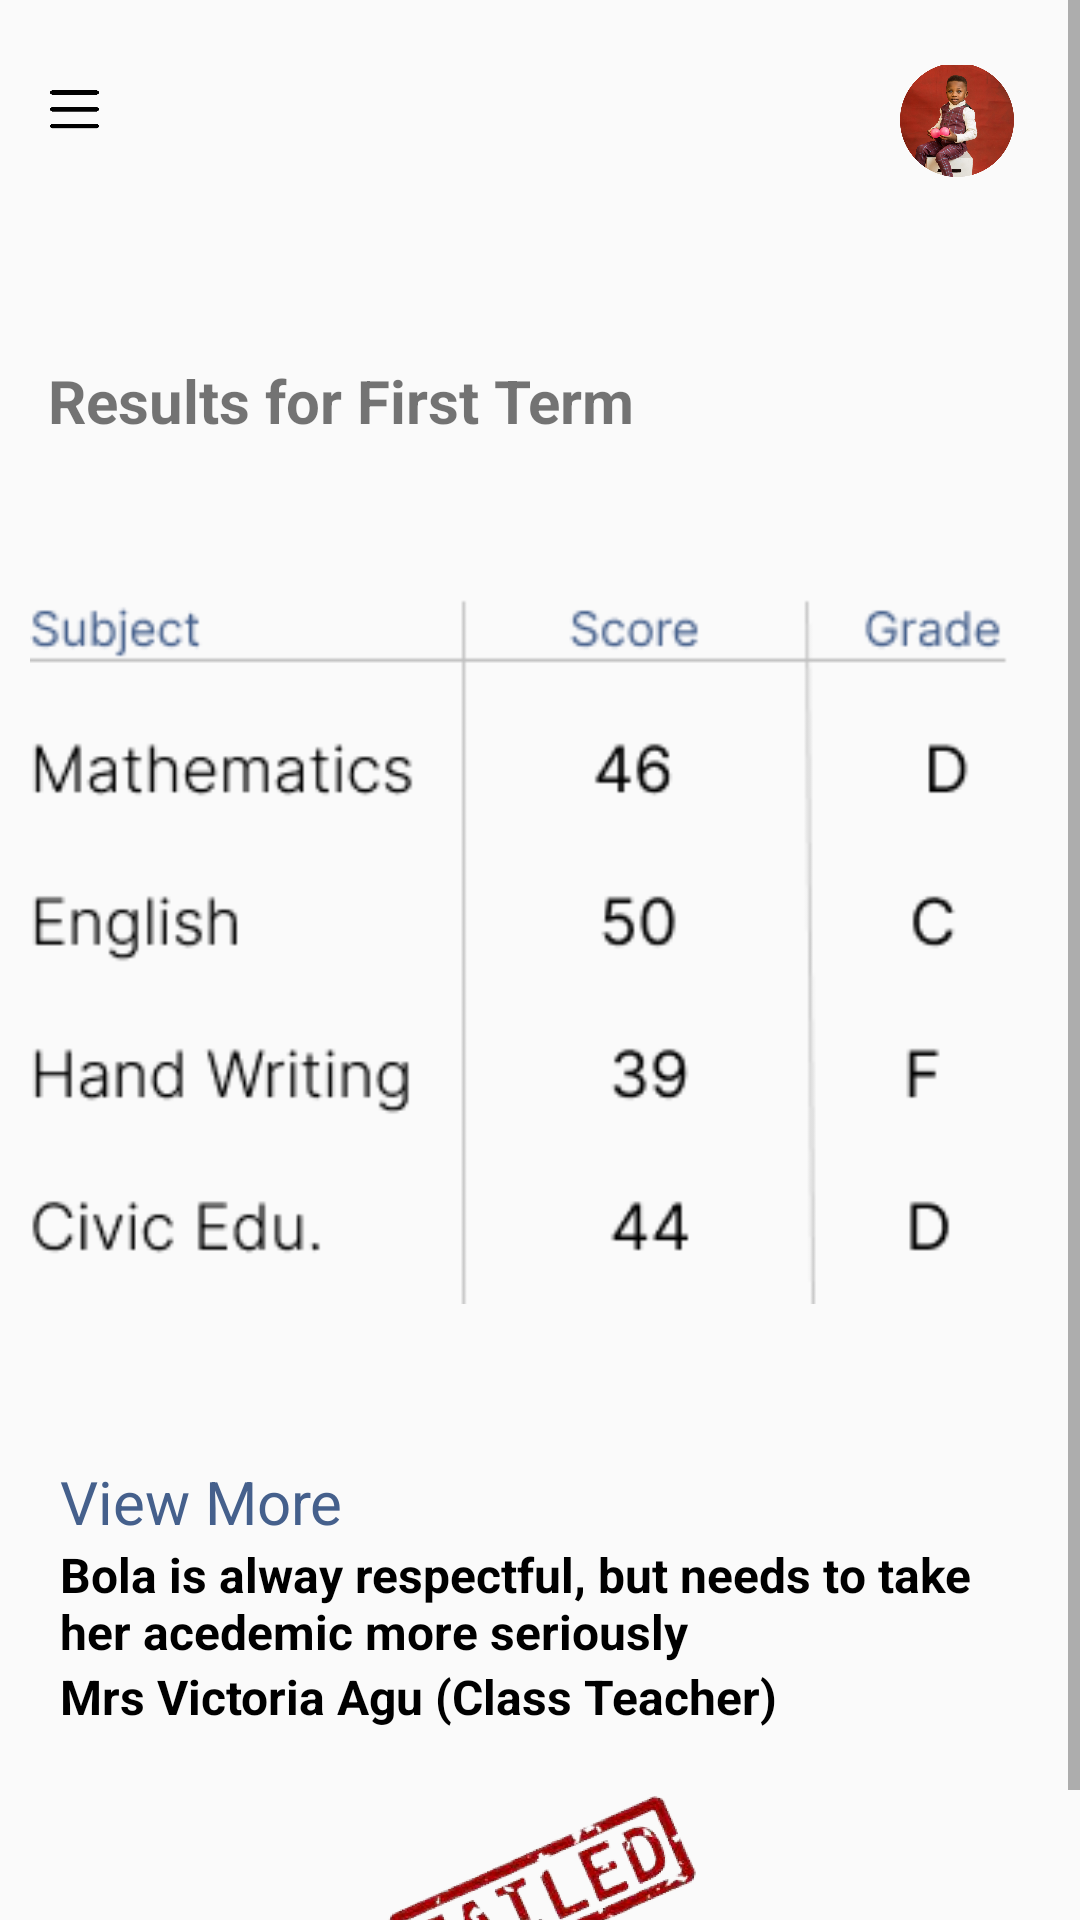

Named icons in this screenshot (1080*1920) and their centers, (x=x, y=y):
babymi: (x=957, y=121)
